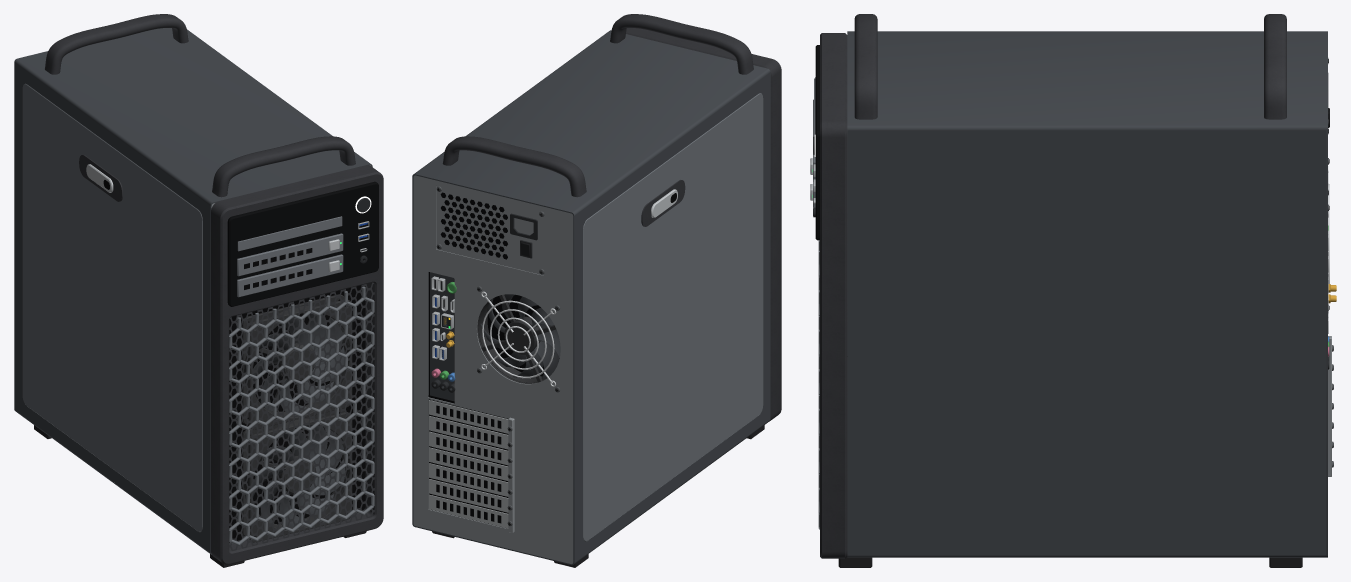
Rendered from workstation.glb.
The picture shows the model from 3 angles, left to right: view 1: azimuth 30°, elevation 25°; view 2: azimuth 150°, elevation 25°; view 3: azimuth 270°, elevation 25°; orthographic projection. The views are drawn at different scales.
Visible parts, largest first — view 1: Workstation, Front_Fan_1, Front_Fan_2; view 2: Workstation, Rear_Fan; view 3: Workstation.
Boxes of the visible parts, <box> form: Workstation: <box>14,14,383,567</box>; Front_Fan_1: <box>252,425,345,527</box>; Front_Fan_2: <box>253,313,344,413</box>; Workstation: <box>412,14,781,567</box>; Rear_Fan: <box>480,294,560,379</box>; Workstation: <box>810,14,1336,567</box>.
Bounding box in the file's own units: 0.2239 × 0.5075 × 0.5012.
Materials: 26 (3 with a texture image).
